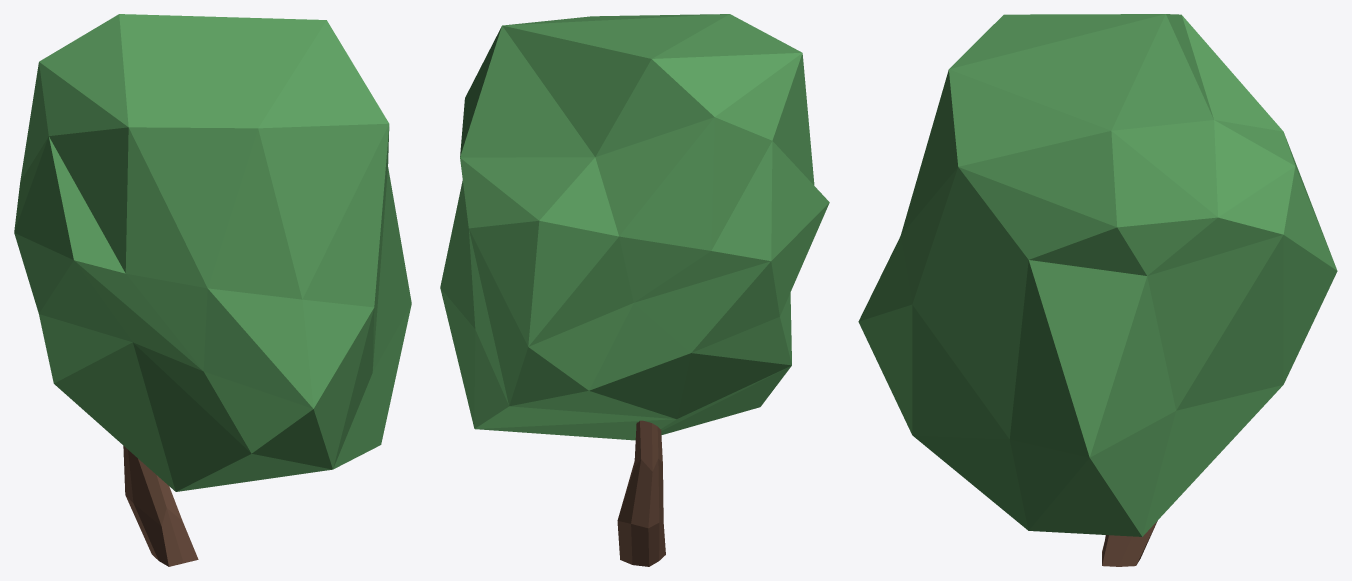
The model's file is Tree_44_Green.fbx.
The picture shows the model from 3 angles, left to right: view 1: azimuth 30°, elevation 25°; view 2: azimuth 150°, elevation 25°; view 3: azimuth 270°, elevation 25°; orthographic projection. The views are drawn at different scales.
Parts seen in each view (by area): view 1: Tree_44_Green_Part_1, Tree_44_Green_Part_2; view 2: Tree_44_Green_Part_1, Tree_44_Green_Part_2; view 3: Tree_44_Green_Part_1, Tree_44_Green_Part_2.
Boxes of the visible parts, bbox=[...] form: Tree_44_Green_Part_1: bbox=[14, 14, 411, 491]; Tree_44_Green_Part_2: bbox=[123, 446, 198, 566]; Tree_44_Green_Part_1: bbox=[440, 14, 829, 440]; Tree_44_Green_Part_2: bbox=[617, 420, 665, 566]; Tree_44_Green_Part_1: bbox=[858, 14, 1337, 536]; Tree_44_Green_Part_2: bbox=[1102, 520, 1157, 566].
Bounding box in the file's own units: 595 × 825 × 677.
